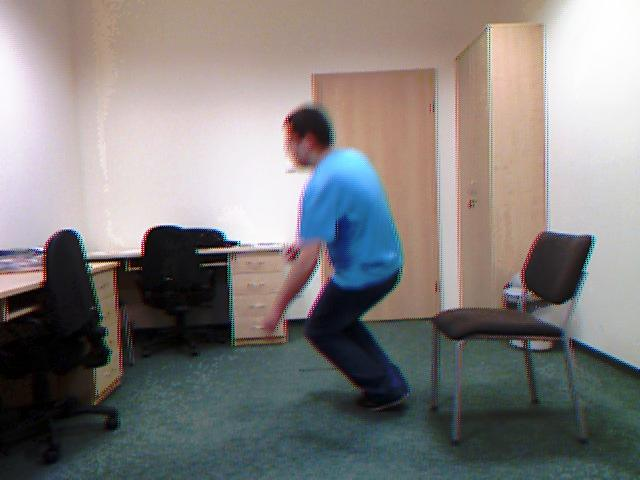near-fall: (248, 93, 420, 425)
